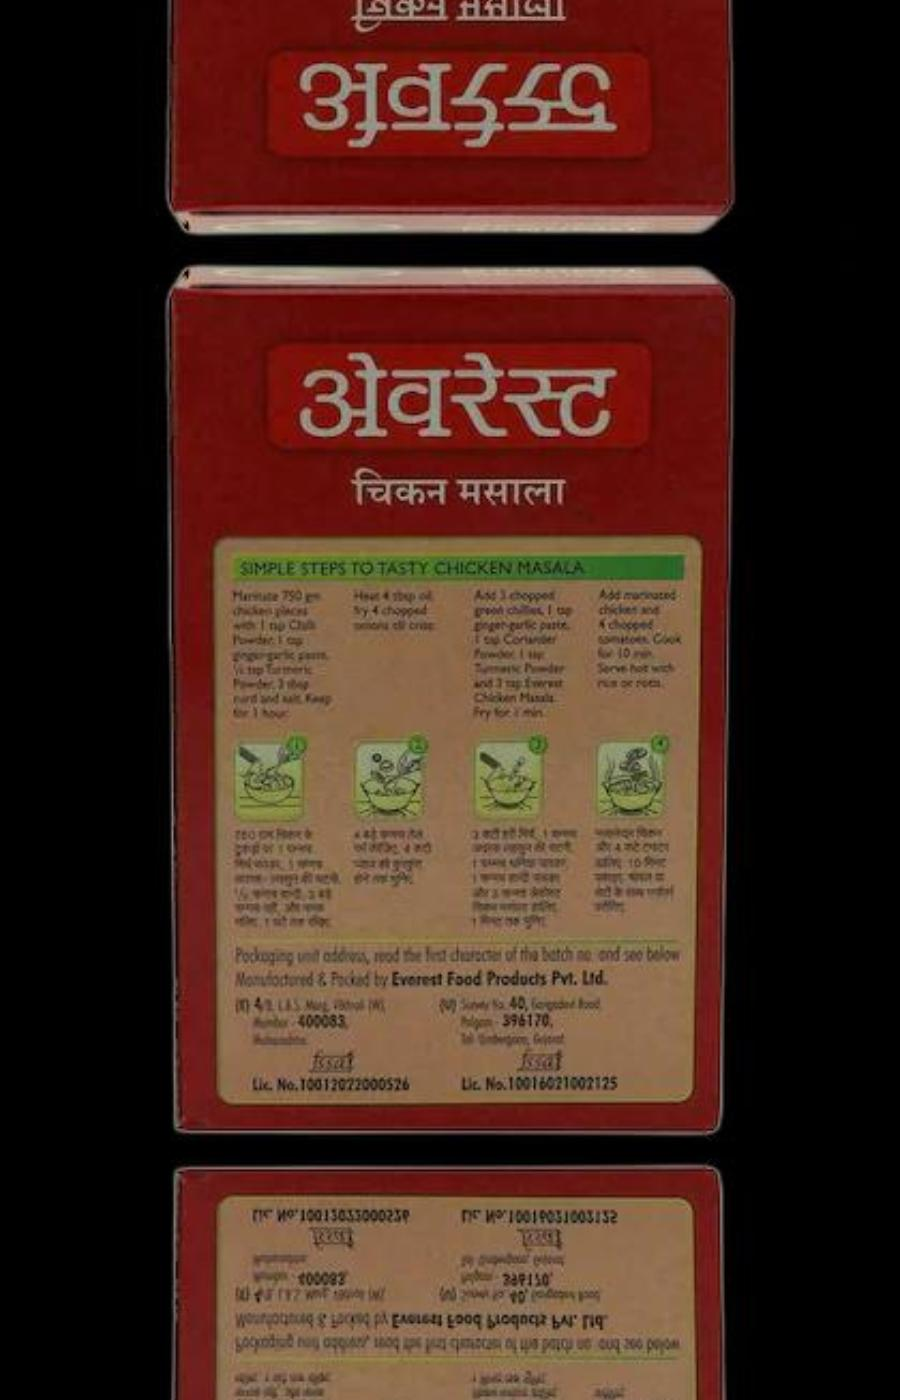Everest Chicken Masala 100 g: (151, 260, 729, 1140), (151, 1160, 728, 1400), (151, 0, 728, 239)
